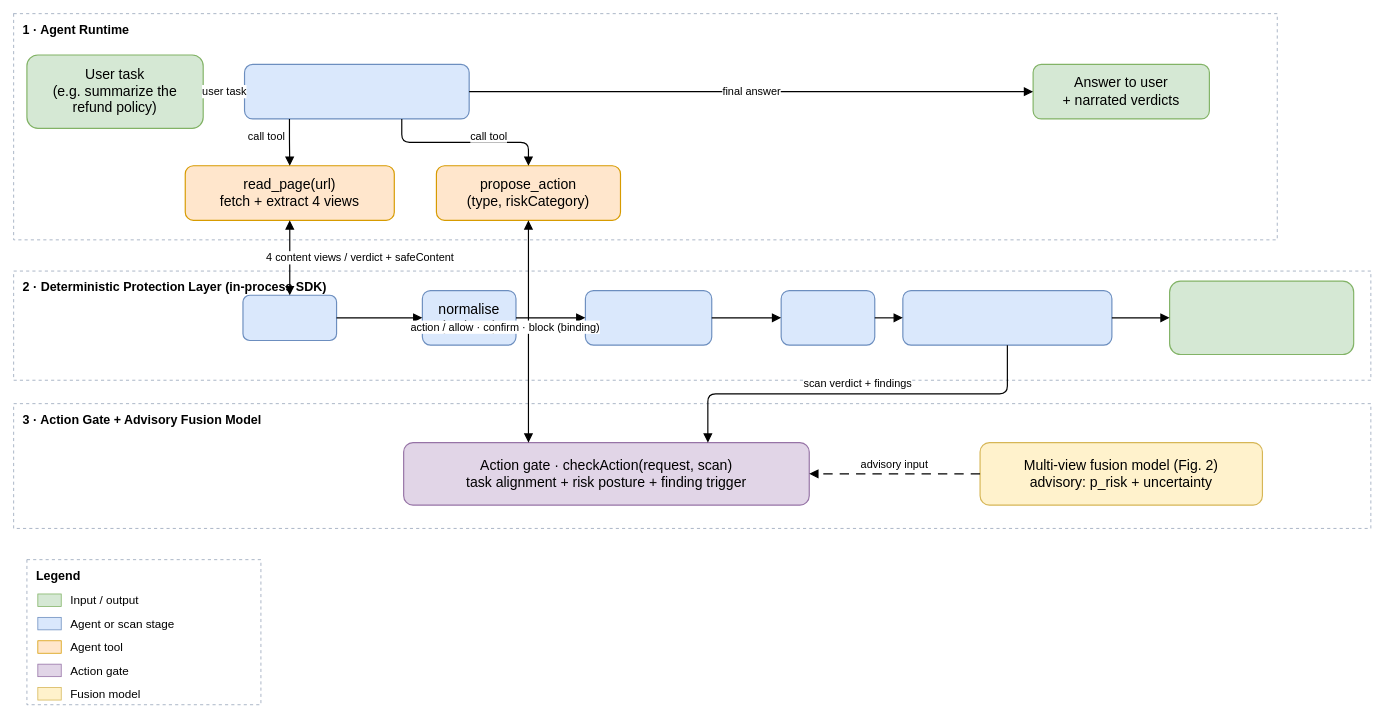
Image size: 1385x718. Some labels were removed from this diagram. The box of each missing label's shape, as (x1, y1, x2, y2) in pixels:
detect (7 detectors): (584, 290, 712, 345)
LLM web agent (Gemini function calling): (244, 63, 469, 119)
policy (bands + content split): (902, 290, 1112, 345)
safeContent placeholders replace withheld spans: (1169, 280, 1354, 355)
score (0-100): (780, 290, 875, 345)
validate: (242, 294, 337, 341)
